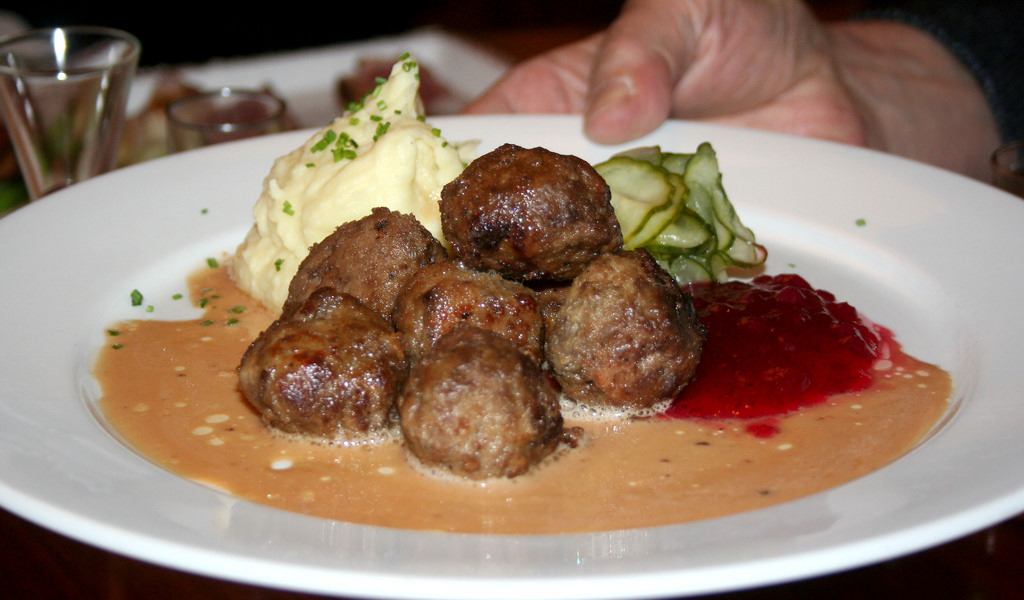meatballs: (260, 292, 560, 471), (468, 151, 652, 405)
